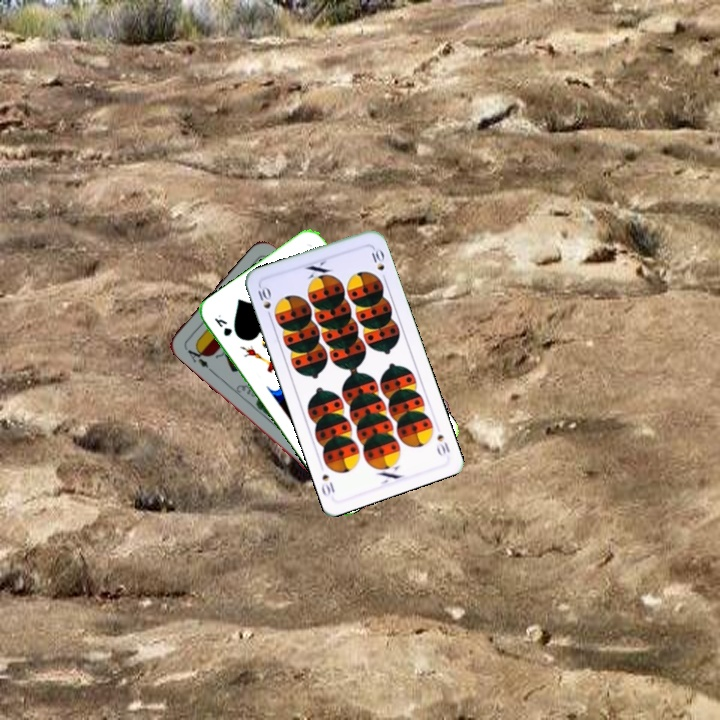EA: (181, 342, 215, 374)
GK: (210, 310, 235, 339)
S10: (254, 282, 274, 322), (432, 429, 452, 458)
